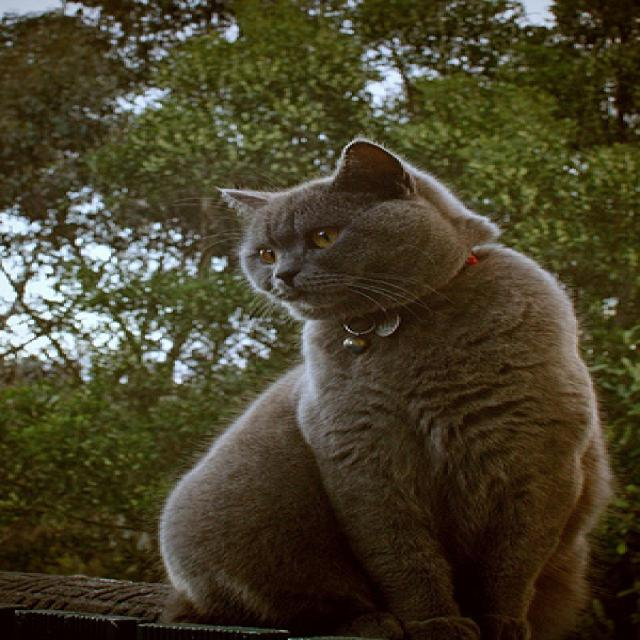British Shorthair: (149, 135, 619, 640)
